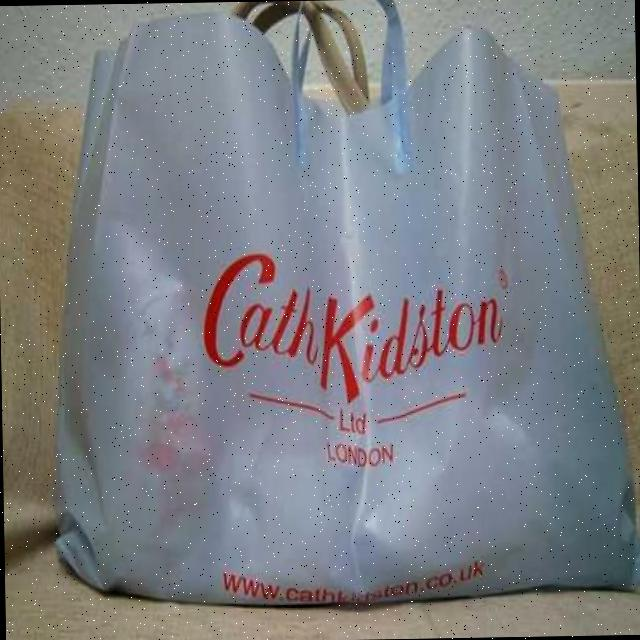Plastic: (47, 0, 640, 616)
